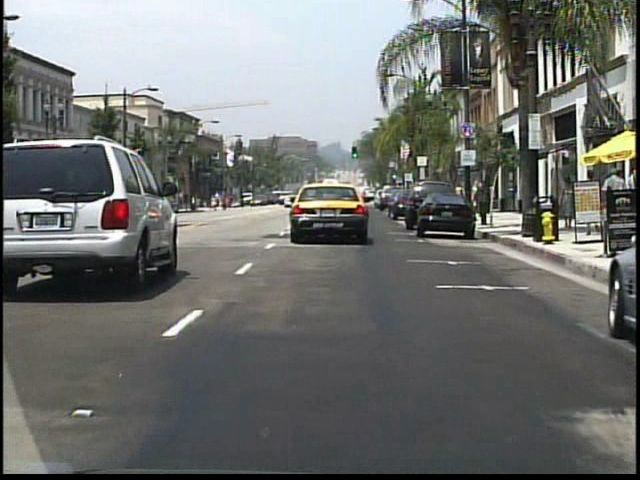person: (599, 165, 625, 221), (582, 170, 603, 235), (555, 179, 575, 233), (472, 181, 482, 215), (239, 194, 246, 209)
